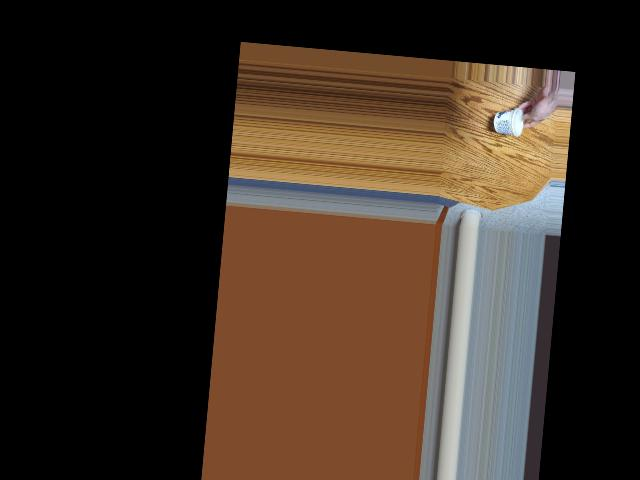cotage: (495, 107, 527, 131)
